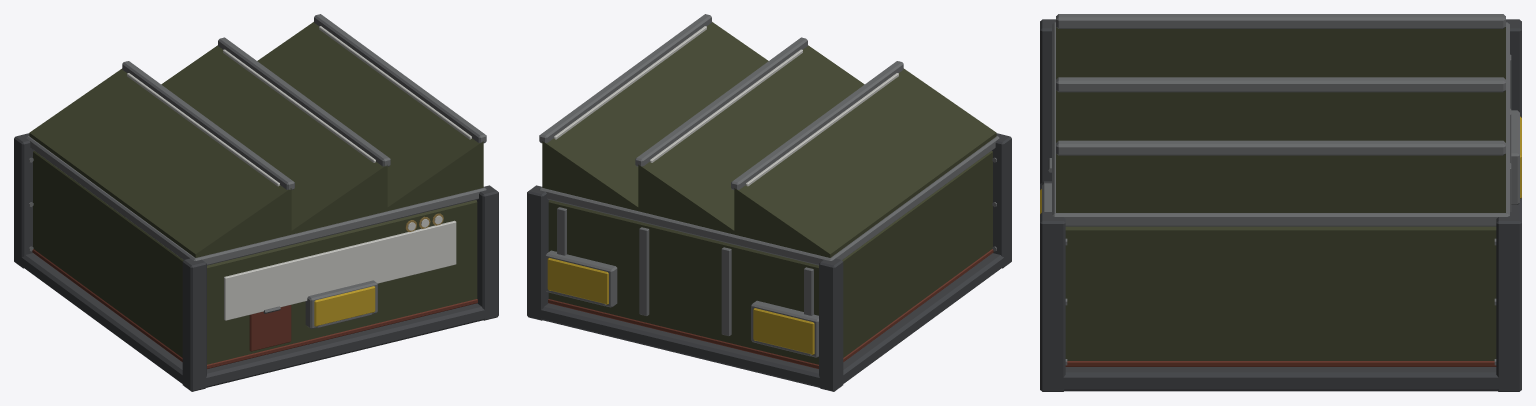
The model's file is assembler_mk1.glb.
3 renders of one model, left to right at view 1: azimuth 30°, elevation 25°; view 2: azimuth 150°, elevation 25°; view 3: azimuth 270°, elevation 25°, orthographic. The views are drawn at different scales.
Parts seen in each view (by area): view 1: assembler_mk1_OliveDrab, assembler_mk1_CastIron, assembler_mk1_GaugeGlass, assembler_mk1_WeldedSteel, assembler_mk1_OxideRed, assembler_mk1_HazardYellow; view 2: assembler_mk1_OliveDrab, assembler_mk1_CastIron, assembler_mk1_WeldedSteel, assembler_mk1_HazardYellow, assembler_mk1_GaugeGlass, assembler_mk1_OxideRed; view 3: assembler_mk1_OliveDrab, assembler_mk1_WeldedSteel, assembler_mk1_CastIron, assembler_mk1_OxideRed.
Part boxes in pixels (bbox=[...]): assembler_mk1_OliveDrab: bbox=[29, 22, 483, 364]; assembler_mk1_CastIron: bbox=[14, 133, 498, 391]; assembler_mk1_GaugeGlass: bbox=[127, 26, 471, 320]; assembler_mk1_WeldedSteel: bbox=[26, 14, 486, 328]; assembler_mk1_OxideRed: bbox=[32, 249, 477, 368]; assembler_mk1_HazardYellow: bbox=[314, 286, 375, 326]; assembler_mk1_OliveDrab: bbox=[542, 22, 996, 364]; assembler_mk1_CastIron: bbox=[527, 133, 1011, 391]; assembler_mk1_WeldedSteel: bbox=[539, 14, 999, 357]; assembler_mk1_HazardYellow: bbox=[547, 258, 814, 354]; assembler_mk1_GaugeGlass: bbox=[554, 26, 898, 186]; assembler_mk1_OxideRed: bbox=[548, 249, 993, 368]; assembler_mk1_OliveDrab: bbox=[1056, 27, 1505, 360]; assembler_mk1_WeldedSteel: bbox=[1042, 14, 1520, 365]; assembler_mk1_CastIron: bbox=[1040, 19, 1521, 391]; assembler_mk1_OxideRed: bbox=[1065, 361, 1496, 366].
Bounding box in the file's own units: 6 × 3.35 × 6.
